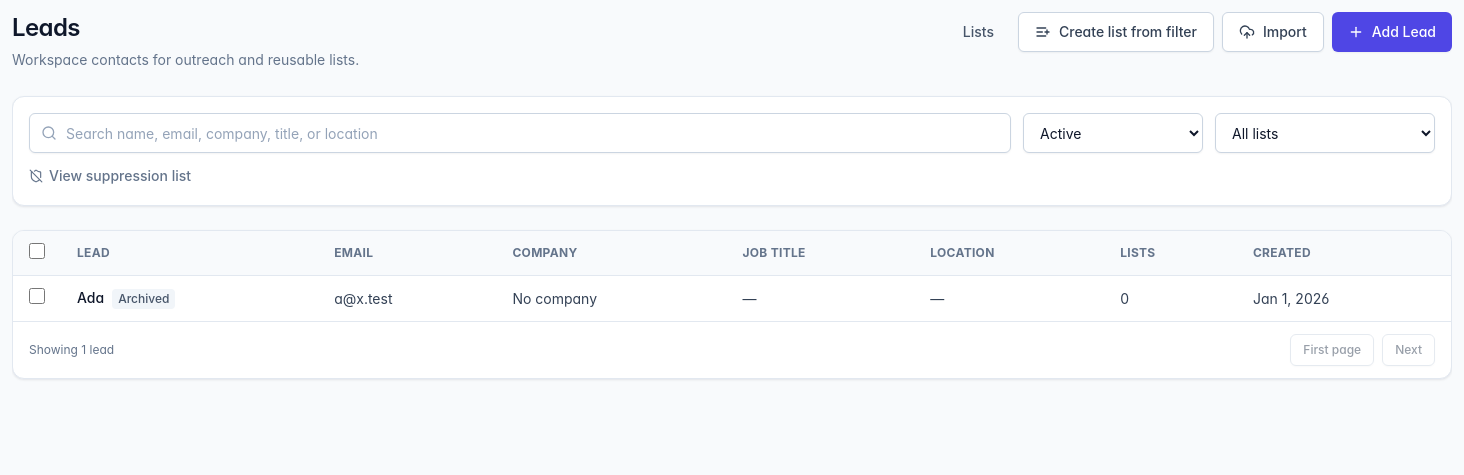
LeadsPageClient › bulk actions › offers no permanent delete to a manager
The image size is (1464, 475).
Click the checkbox named "Select a@x.test" at [37, 296], box [29,288,45,304]
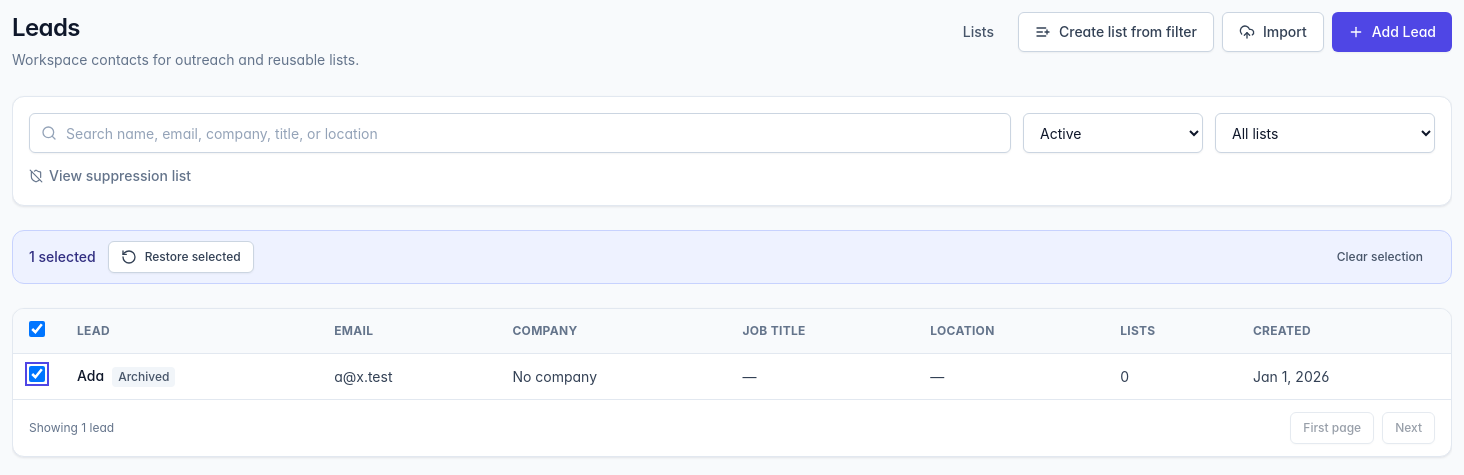
Now the button "Restore selected" is shown, box [108,241,254,273]
